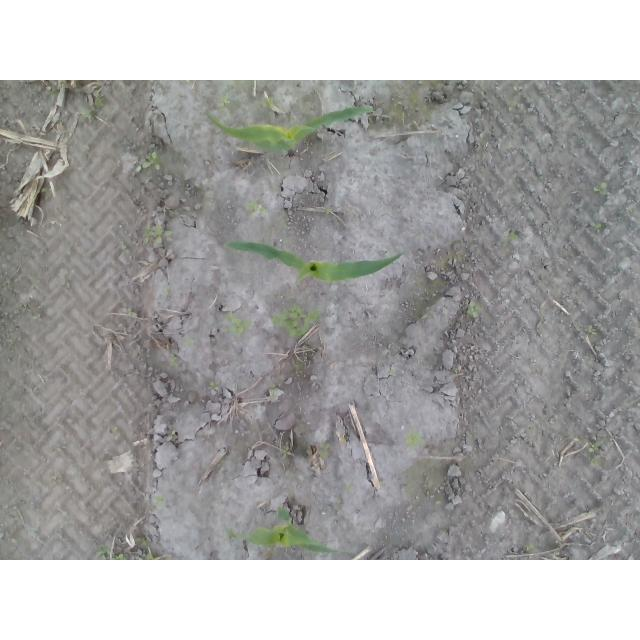Maize: (222, 235, 403, 284), (206, 106, 374, 157), (224, 502, 357, 556)
Weeds: (270, 303, 321, 339), (223, 313, 257, 335), (142, 222, 174, 242), (81, 96, 106, 121), (133, 150, 161, 170), (403, 430, 425, 448), (97, 548, 127, 561), (247, 200, 270, 214), (223, 527, 240, 544), (588, 440, 599, 464), (136, 552, 161, 561), (467, 302, 481, 318), (592, 182, 608, 196), (120, 240, 133, 257), (586, 324, 603, 337), (318, 442, 330, 459), (505, 99, 520, 112), (40, 187, 53, 201), (152, 495, 164, 510), (46, 87, 60, 98), (167, 430, 178, 442), (208, 381, 220, 392), (168, 354, 178, 367), (263, 96, 273, 109), (280, 447, 291, 458), (127, 307, 137, 319), (592, 223, 604, 233), (523, 544, 537, 552), (183, 337, 193, 348), (164, 287, 173, 297), (344, 483, 353, 493), (439, 528, 449, 536), (223, 95, 233, 103), (387, 368, 395, 377), (512, 231, 519, 241), (326, 208, 334, 215)
